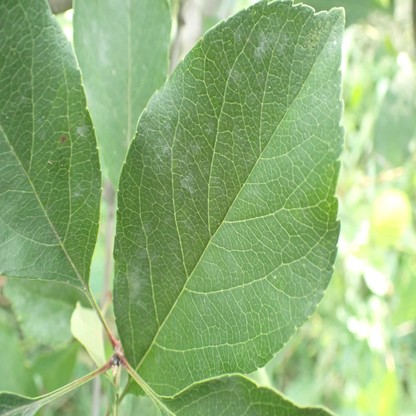powdery_mildew: (83, 20, 111, 65), (176, 144, 197, 192), (254, 32, 287, 60), (126, 267, 147, 309), (135, 222, 152, 258), (154, 139, 170, 166), (226, 68, 239, 84), (76, 126, 89, 140), (204, 121, 214, 133), (73, 191, 80, 198)
